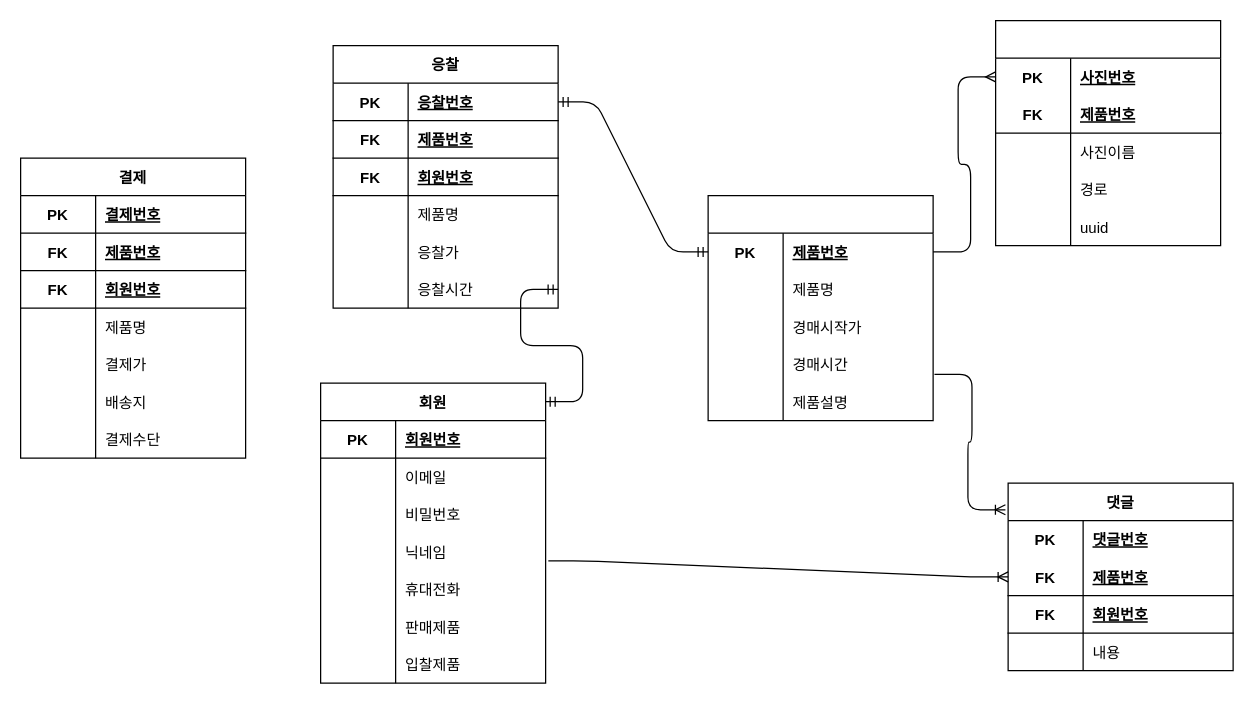
Image size: 1254x704. Some labels were removed from this diagram. The box of each missing label's shape, as (x1, y1, x2, y2) in pixels:
제품: (707, 194, 933, 421)
제품이미지: (994, 19, 1221, 246)
